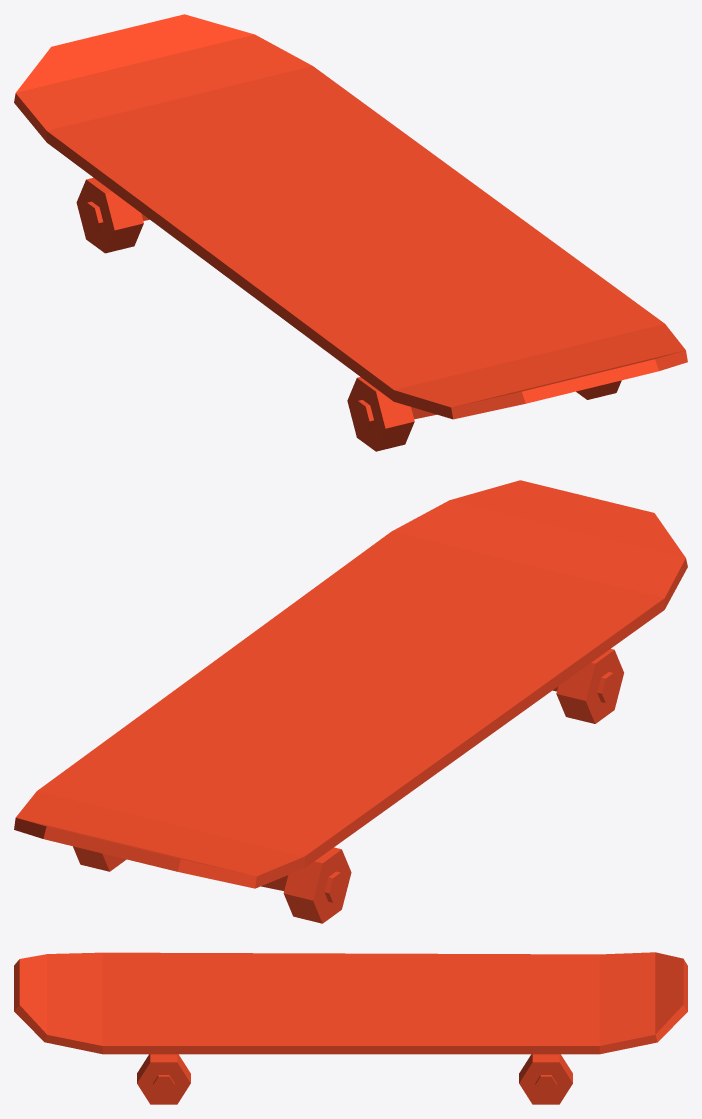
Rendered from SM_Skateboard_City.fbx.
The picture shows the model from 3 angles, top to bottom: view 1: azimuth 30°, elevation 25°; view 2: azimuth 150°, elevation 25°; view 3: azimuth 270°, elevation 25°; orthographic projection. The views are drawn at different scales.
Visible parts, largest first — view 1: SM_Skateboard_City; view 2: SM_Skateboard_City; view 3: SM_Skateboard_City.
Part boxes in pixels (x1,y1,x2,y2): SM_Skateboard_City: (14,14,687,451); SM_Skateboard_City: (14,480,687,923); SM_Skateboard_City: (14,952,687,1104).
Size of the model in its own units: 0.3187 by 0.1296 by 0.9717.
